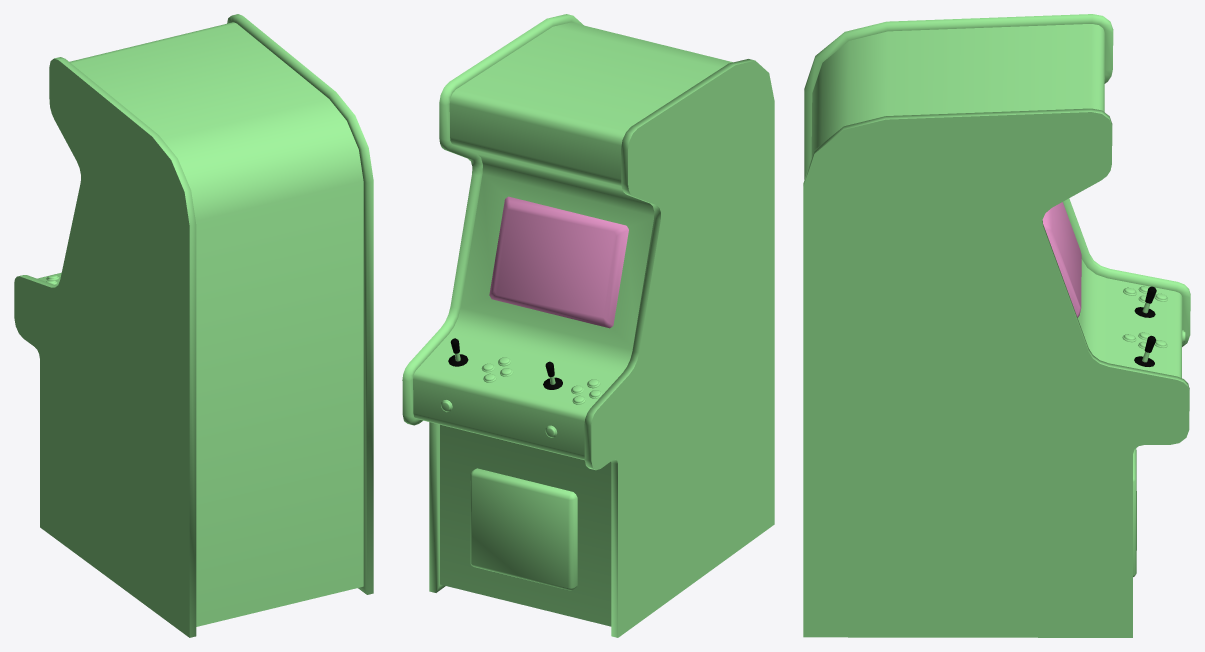
The model's file is prop_arcade4.FBX.
3 renders of one model, left to right at view 1: azimuth 30°, elevation 25°; view 2: azimuth 150°, elevation 25°; view 3: azimuth 270°, elevation 25°, orthographic. The views are drawn at different scales.
Visible parts, largest first — view 1: Prop_arcade; view 2: Prop_arcade; view 3: Prop_arcade.
Boxes of the visible parts, bbox=[...] form: Prop_arcade: bbox=[14, 14, 373, 637]; Prop_arcade: bbox=[402, 14, 774, 637]; Prop_arcade: bbox=[803, 14, 1190, 637].
Bounding box in the file's own units: 0.8741 × 2.17 × 1.45.
